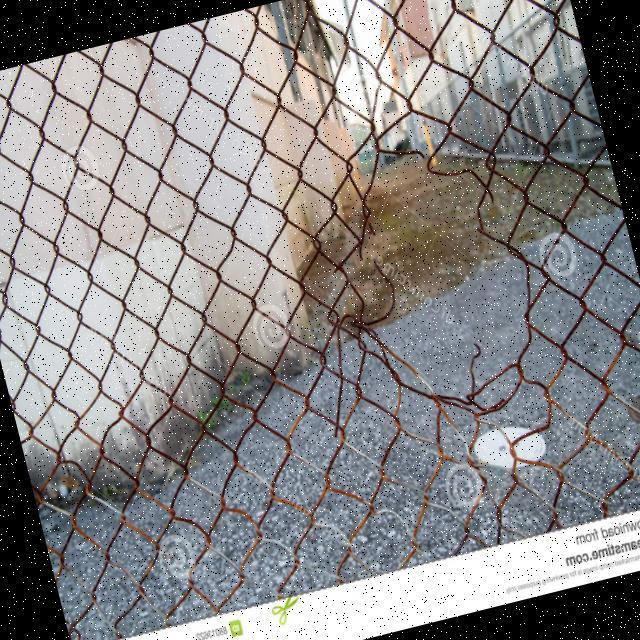fence line: (244, 48, 639, 549)
